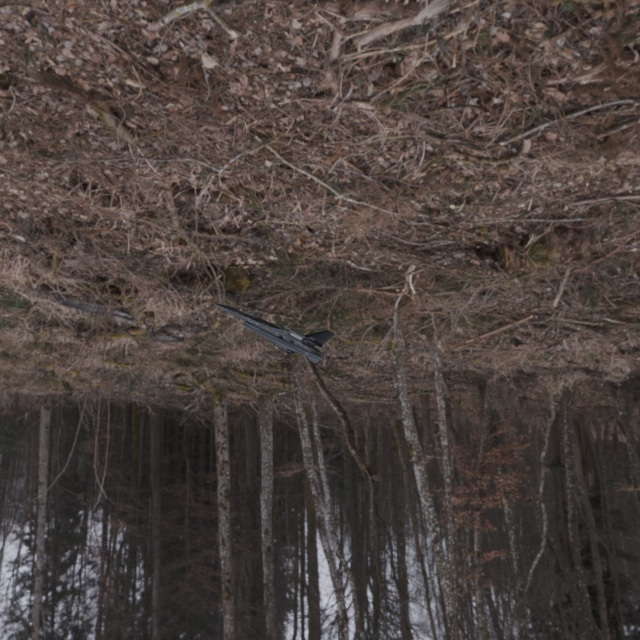model: (202, 266, 348, 370)
